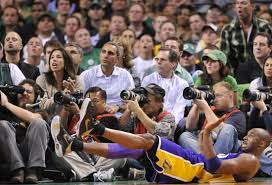10+: (1, 1, 271, 185)
down: (76, 110, 270, 185)
